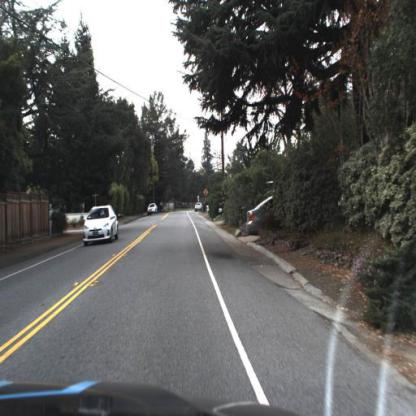car: (80, 202, 122, 246), (241, 192, 282, 236), (148, 204, 160, 217), (193, 200, 204, 213)
